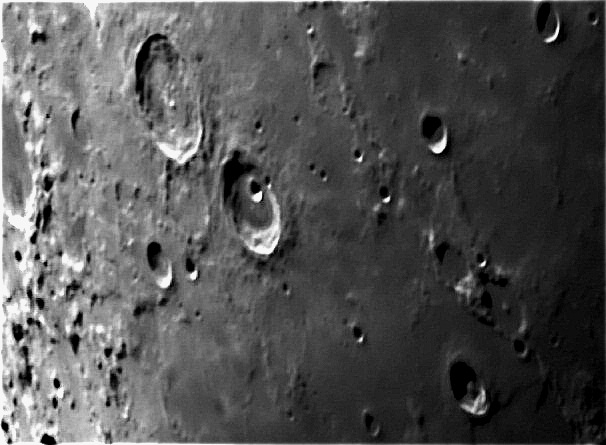crater: (106, 20, 215, 187), (398, 86, 496, 195), (427, 334, 513, 437), (518, 1, 576, 72), (346, 397, 393, 442), (343, 312, 379, 354)
